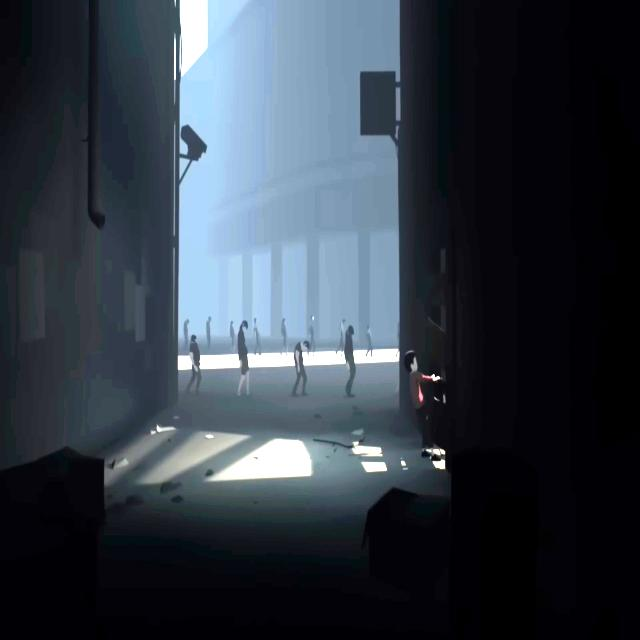boy: (404, 350, 441, 460)
zombie: (292, 341, 310, 396), (237, 320, 250, 396), (187, 334, 202, 396), (344, 326, 356, 398), (336, 318, 346, 356), (308, 314, 316, 356), (254, 318, 262, 355), (281, 318, 287, 356), (366, 325, 373, 357), (230, 321, 236, 354), (206, 316, 211, 355), (184, 319, 189, 353)
